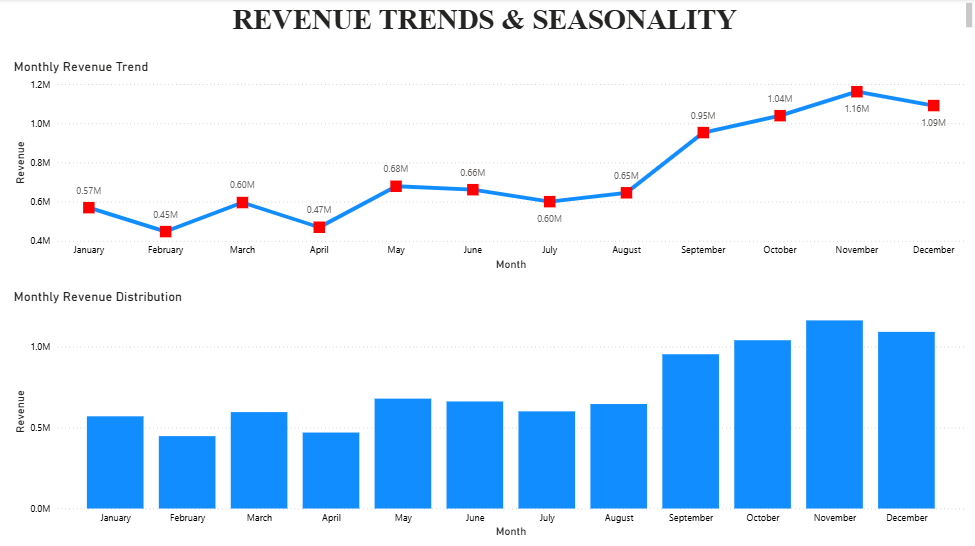

This screenshot's page, from the dashboard's own definition file:
{"tool":"powerbi","page":{"name":"Page 5","canvas":[1280,720],"ordinal":4},"visuals":[{"type":"lineChart","title":"Monthly Revenue Trend","fields":{"Category":["cleaned_ecommerce_data.OrderMonth.Variation.Date Hierarchy.Month"],"Y":["Sum(cleaned_ecommerce_data.Revenue)"]},"box":[13.9,78.5,1254.4,281],"z":0},{"type":"clusteredColumnChart","title":"Monthly Revenue Distribution","fields":{"Category":["cleaned_ecommerce_data.OrderMonth.Variation.Date Hierarchy.Month"],"Y":["Sum(cleaned_ecommerce_data.Revenue)"]},"box":[13.9,379.7,1254.4,330.4],"z":1},{"type":"textbox","box":[0,0,1278.7,46.8],"z":2}]}

Visuals, with their boxes in screenshot pixels (x1, y1, x2, y2), scaled from the page's 1280x720 canvas onto the 975x546 screenshot:
"Monthly Revenue Trend" lineChart: 11:60:966:273
"Monthly Revenue Distribution" clusteredColumnChart: 11:288:966:538
textbox: 0:0:974:35
